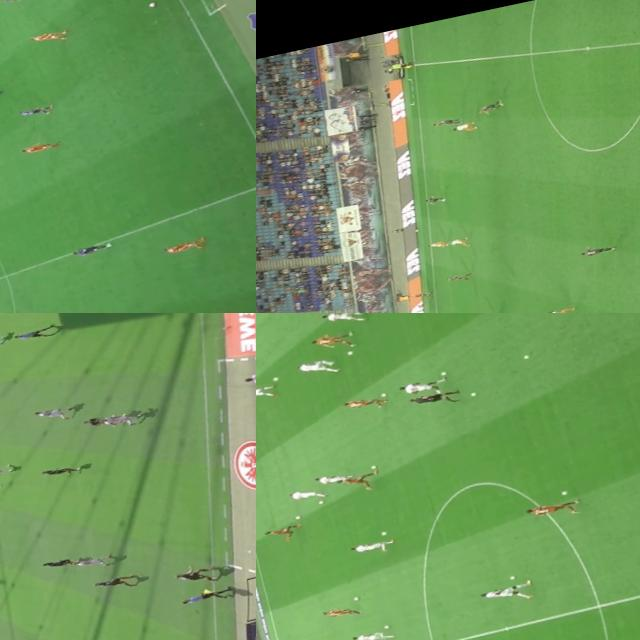ball: (143, 0, 158, 10), (436, 196, 447, 204), (366, 464, 378, 471), (438, 370, 448, 378), (558, 490, 568, 498), (521, 354, 534, 360), (344, 350, 356, 356), (378, 624, 390, 630), (314, 498, 324, 504), (378, 530, 388, 536), (350, 596, 360, 602), (0, 479, 5, 490), (268, 377, 278, 382), (468, 392, 476, 396), (506, 576, 514, 580), (293, 516, 300, 520)
player: (524, 496, 582, 524), (478, 580, 534, 608), (309, 329, 356, 356), (396, 377, 448, 401), (169, 564, 217, 589), (336, 468, 381, 494), (69, 552, 115, 574), (97, 409, 144, 430), (30, 404, 74, 426), (346, 536, 394, 556), (296, 356, 338, 378), (36, 462, 84, 481), (68, 240, 115, 259), (77, 411, 121, 431), (158, 238, 206, 256), (262, 524, 302, 544), (319, 602, 359, 622), (90, 574, 133, 592), (578, 241, 618, 260), (286, 486, 326, 505), (30, 27, 69, 46), (320, 313, 365, 329), (19, 139, 56, 156), (345, 396, 382, 413), (312, 471, 348, 488), (15, 105, 50, 122), (38, 556, 76, 571), (350, 628, 392, 640), (472, 100, 503, 114), (429, 116, 462, 129), (421, 192, 446, 208), (256, 383, 275, 404), (444, 237, 471, 250), (443, 272, 472, 284), (426, 237, 450, 251), (450, 121, 475, 134), (0, 464, 16, 480), (409, 290, 432, 300), (543, 306, 575, 313), (0, 0, 36, 6)
